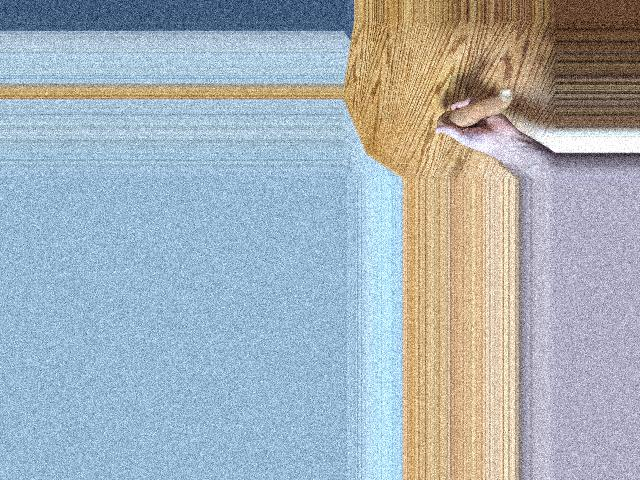sweet_potato: (438, 90, 516, 131)
